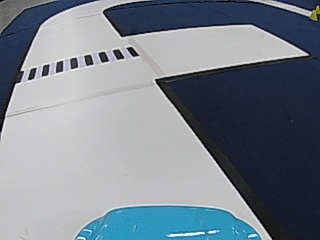CrossWalk: (23, 46, 136, 79)
